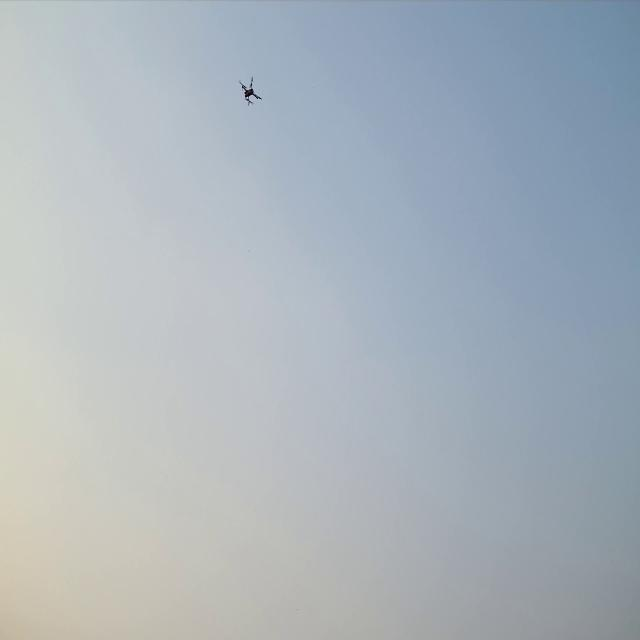UAV: (236, 75, 264, 107)
